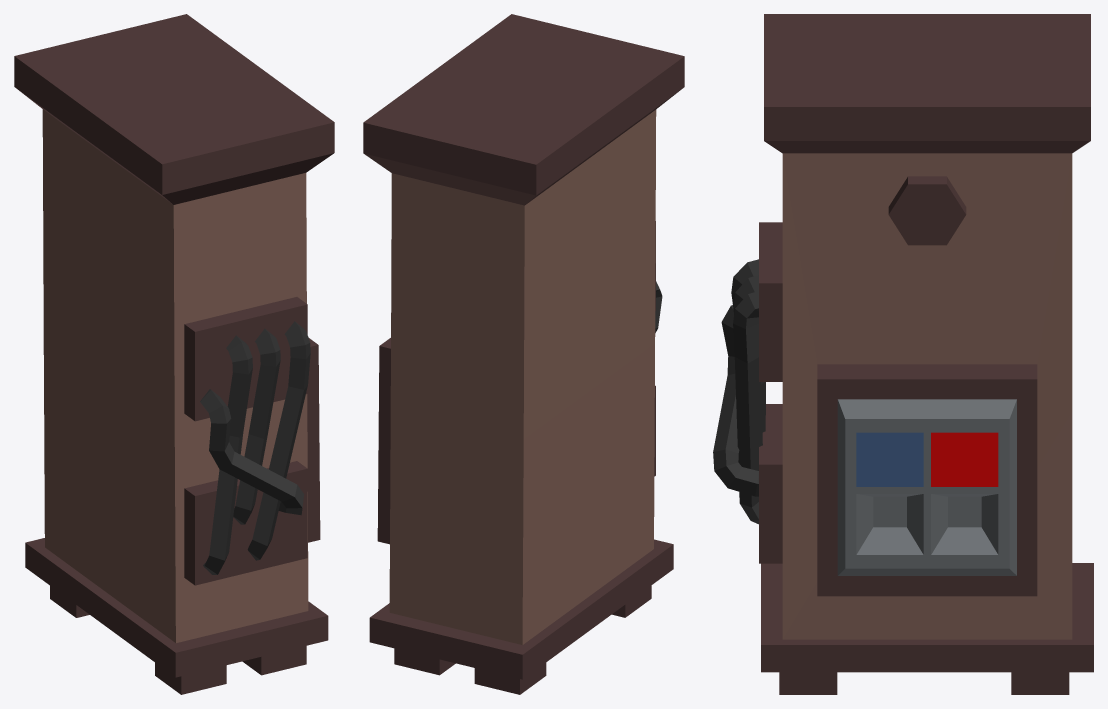
Rendered from DarkRoseWoodMechMediumElectricalOutlet1.fbx.
3 views of the same model, side by side, from view 1: azimuth 30°, elevation 25°; view 2: azimuth 150°, elevation 25°; view 3: azimuth 270°, elevation 25° (orthographic). The views are drawn at different scales.
Visible parts, largest first — view 1: DarkRoseWoodMechMediumElectricalOutlet1; view 2: DarkRoseWoodMechMediumElectricalOutlet1; view 3: DarkRoseWoodMechMediumElectricalOutlet1.
Boxes of the visible parts, x1,y1,x2,y2 form: DarkRoseWoodMechMediumElectricalOutlet1: (14,14,334,694); DarkRoseWoodMechMediumElectricalOutlet1: (363,14,684,694); DarkRoseWoodMechMediumElectricalOutlet1: (713,14,1093,694).
Bounding box in the file's own units: 166 × 442 × 255.
